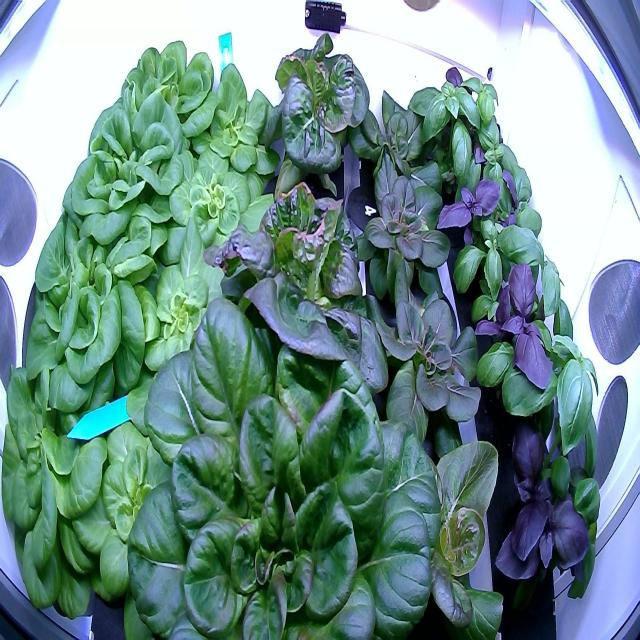Ready: (117, 287, 449, 640), (215, 171, 394, 417), (0, 353, 150, 632), (19, 209, 171, 418), (252, 22, 383, 217), (59, 82, 203, 250), (106, 29, 224, 169)
young: (62, 384, 219, 640), (363, 418, 512, 640), (352, 279, 490, 472), (131, 202, 242, 383), (344, 142, 460, 311), (160, 136, 280, 282), (338, 72, 452, 224), (183, 56, 287, 184)
